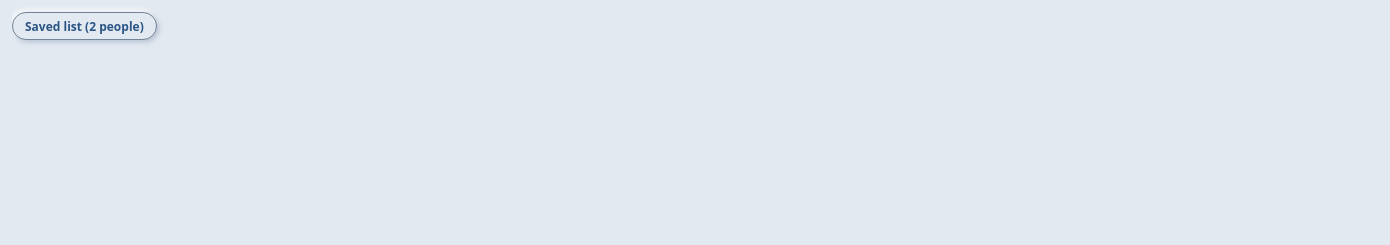
Scenario: adding an address › asks the server nothing for an empty box, and for an address that is on the list already, of any case
Click the button "Saved list (2 people)". click: click(84, 26)
box: [12,12,157,40]
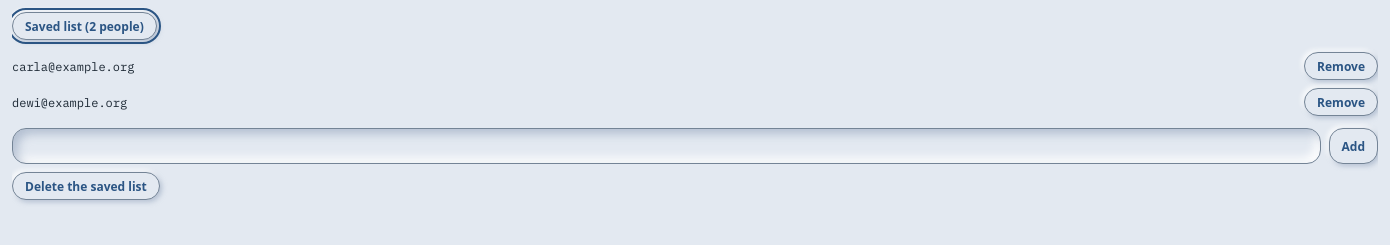
Click the button "Add". click: click(1353, 146)
box: [1328,128,1378,164]
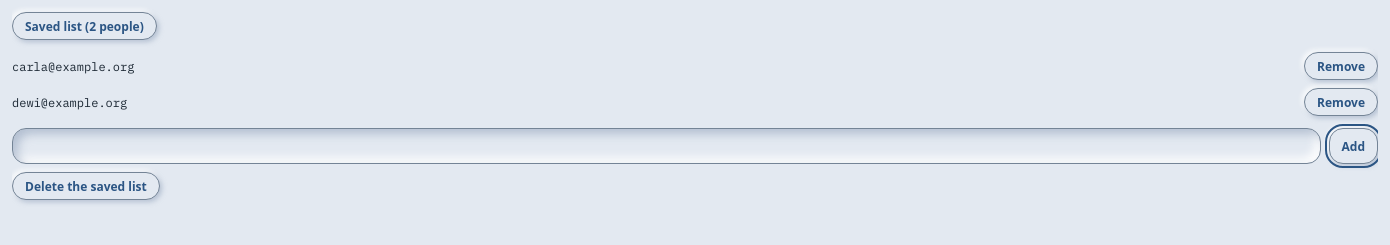
Type "CARLA@example.org" into the field named "Add an address to the saved list". click: (666, 146)
box: [12,128,1320,164]
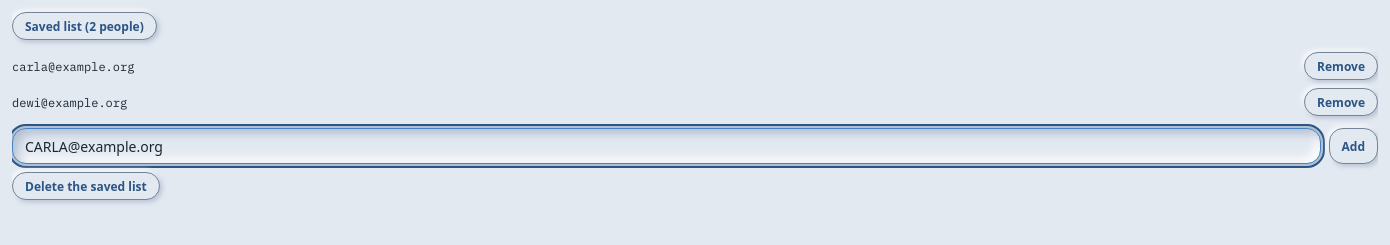
Click the button "Add". click: click(1353, 146)
box: [1328,128,1378,164]
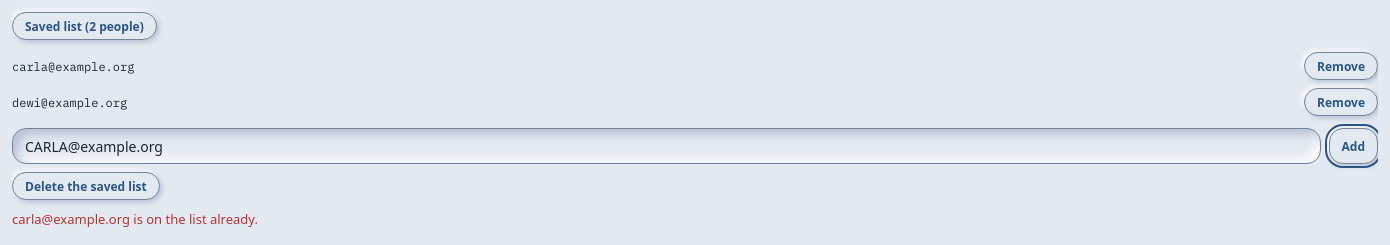
Result: the message reads "carla@example.org is on the list already." at [12,210,258,228]
